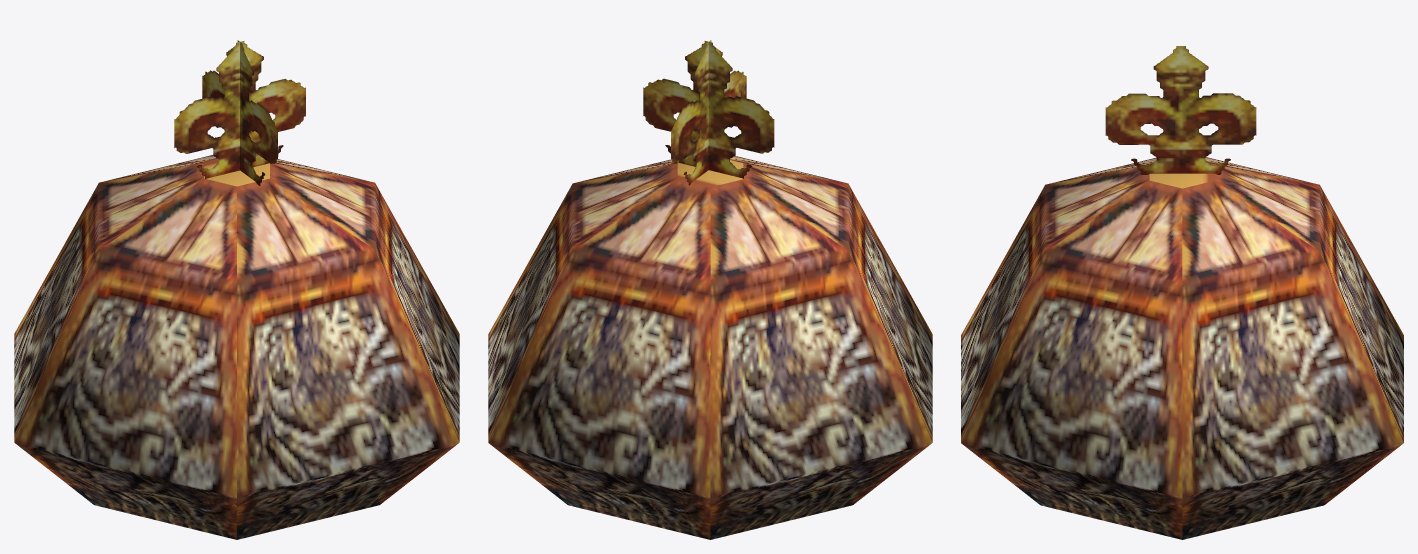
File: drop_reinforce_prob_up.glb
3 renders of one model, left to right at view 1: azimuth 30°, elevation 25°; view 2: azimuth 150°, elevation 25°; view 3: azimuth 270°, elevation 25°, orthographic.
Parts seen in each view (by area): view 1: drop_rein0; view 2: drop_rein0; view 3: drop_rein0.
Boxes of the visible parts, x1,y1,x2,y2 form: drop_rein0: (14, 40, 459, 539); drop_rein0: (488, 40, 932, 539); drop_rein0: (961, 46, 1403, 539).
Size of the model in its own units: 0.2321 by 0.2134 by 0.201.
1 material, 1 textured.
